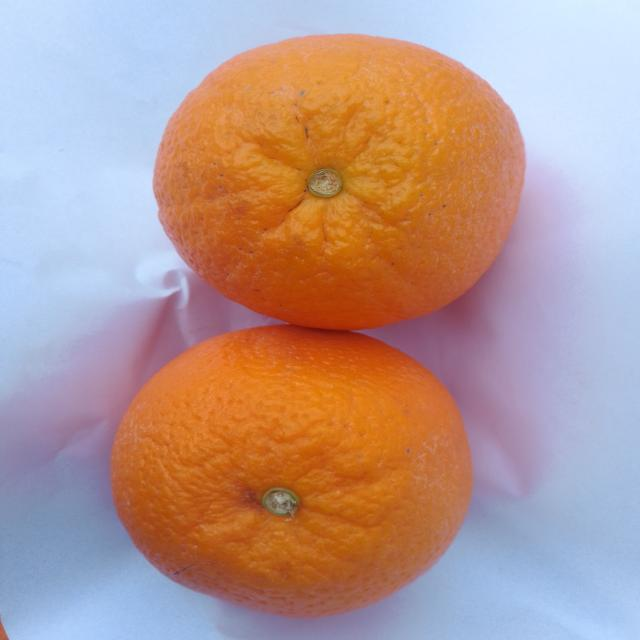orange: (154, 35, 524, 329), (112, 326, 471, 617), (0, 621, 8, 639)
